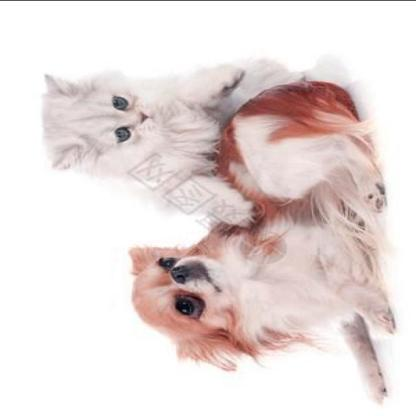cat: (34, 54, 244, 226)
dog: (122, 216, 400, 402)
